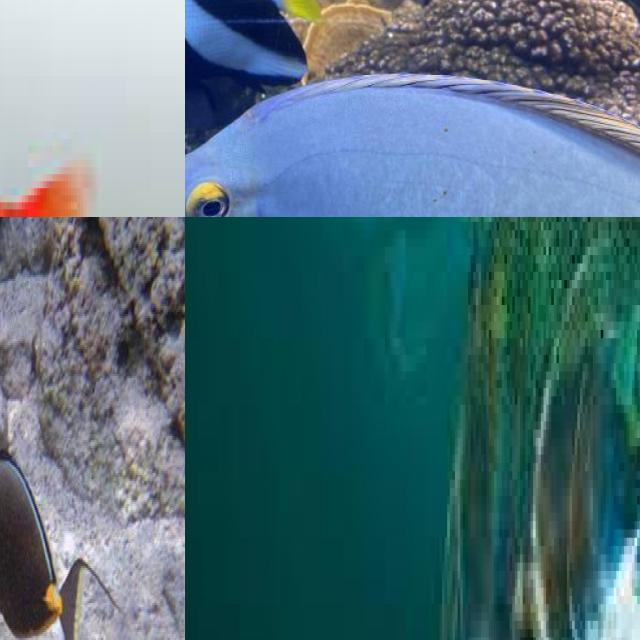fish: (345, 496, 640, 640), (0, 0, 185, 217), (0, 442, 104, 640)
